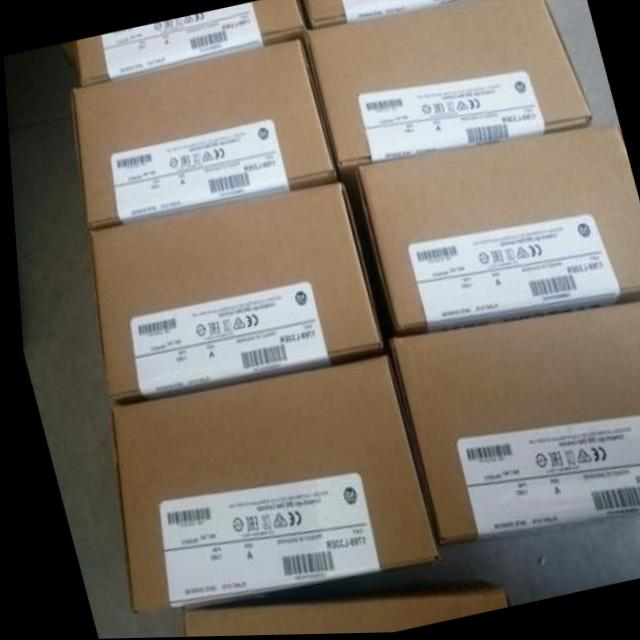box: (105, 355, 431, 613), (87, 183, 380, 404), (381, 305, 640, 550), (352, 125, 640, 336), (301, 0, 592, 180), (71, 40, 335, 230), (71, 0, 305, 86), (173, 581, 500, 638), (303, 0, 469, 29)
